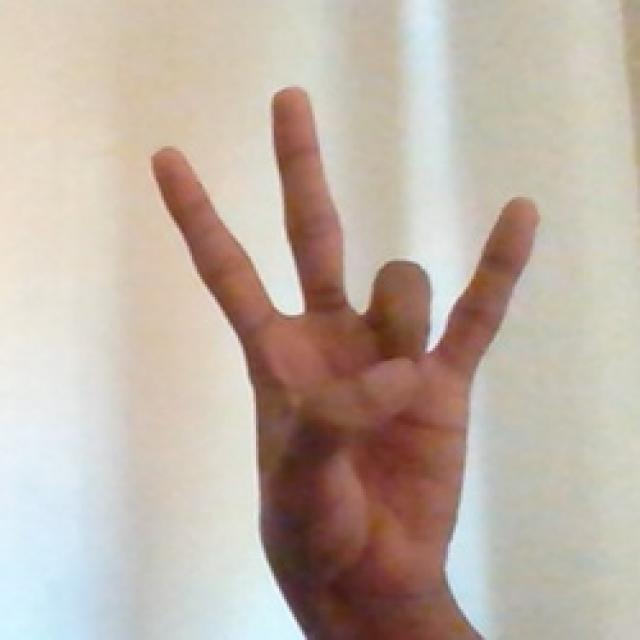Numeric-7: (147, 81, 543, 598)
